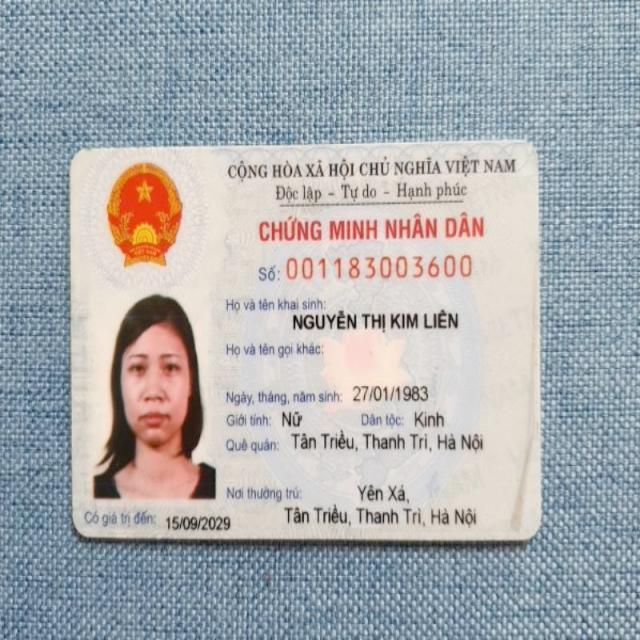current_place: (281, 503, 479, 530), (355, 481, 416, 506)
dob: (349, 378, 430, 402)
expire_date: (166, 509, 231, 535)
gender: (281, 410, 305, 429)
id: (286, 250, 475, 282)
name: (289, 309, 462, 334)
origin_place: (291, 428, 486, 457)
